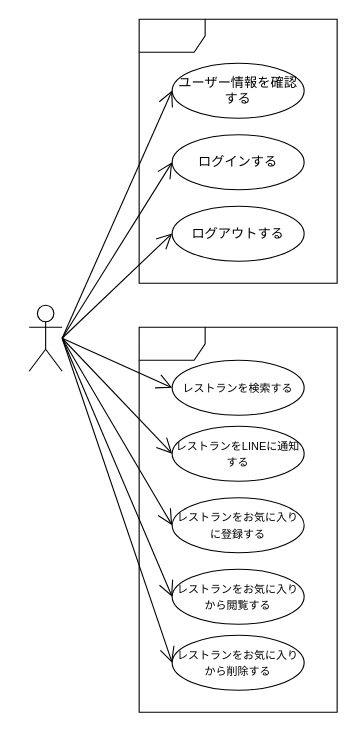
This 356x732 diagram has some shape labels left out. Here are the shapes that lost their labels. From the top down, the box of each, then its label:
(138, 18, 337, 283): ユーザー管理
(28, 304, 62, 371): ユーザ―
(138, 326, 337, 712): レストラン
